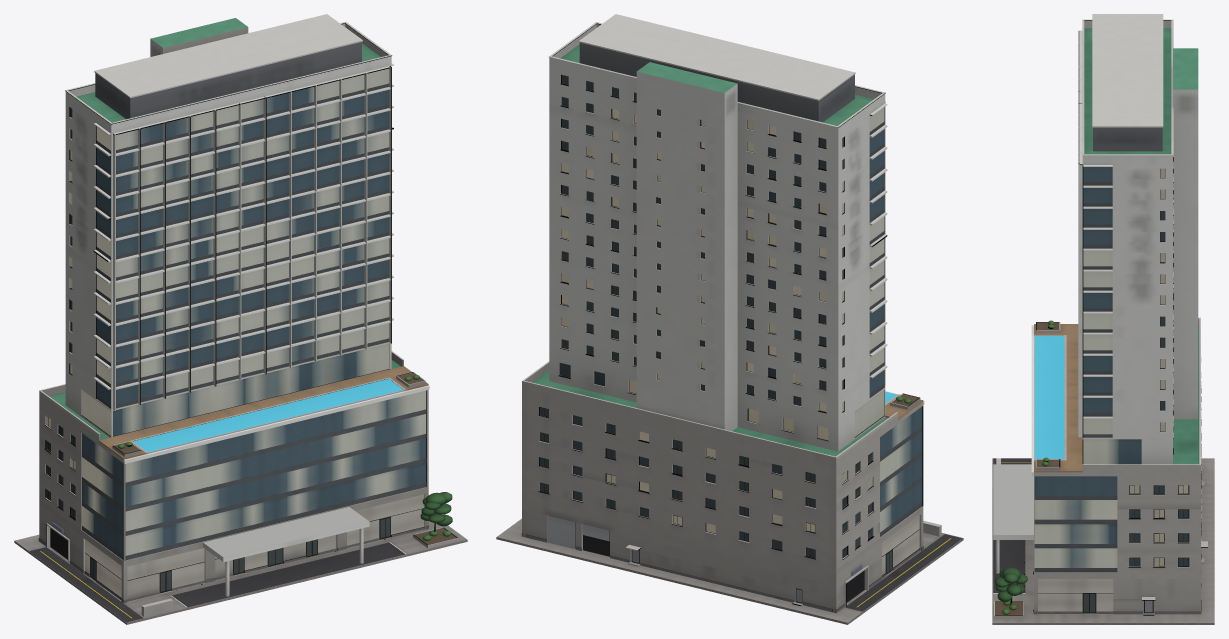
Rendered from IlsanTanibayHotel_LOD2.fbx.
3 views of the same model, side by side, from view 1: azimuth 30°, elevation 25°; view 2: azimuth 150°, elevation 25°; view 3: azimuth 270°, elevation 25° (orthographic). The views are drawn at different scales.
Visible parts, largest first — view 1: IlsanTanibayHotel_LOD2; view 2: IlsanTanibayHotel_LOD2; view 3: IlsanTanibayHotel_LOD2.
Boxes of the visible parts, x1,y1,x2,y2 form: IlsanTanibayHotel_LOD2: [14, 14, 467, 624]; IlsanTanibayHotel_LOD2: [496, 14, 963, 624]; IlsanTanibayHotel_LOD2: [992, 14, 1214, 624].
Bounding box in the file's own units: 55.9 × 75.05 × 31.9.
1 material, 1 textured.
